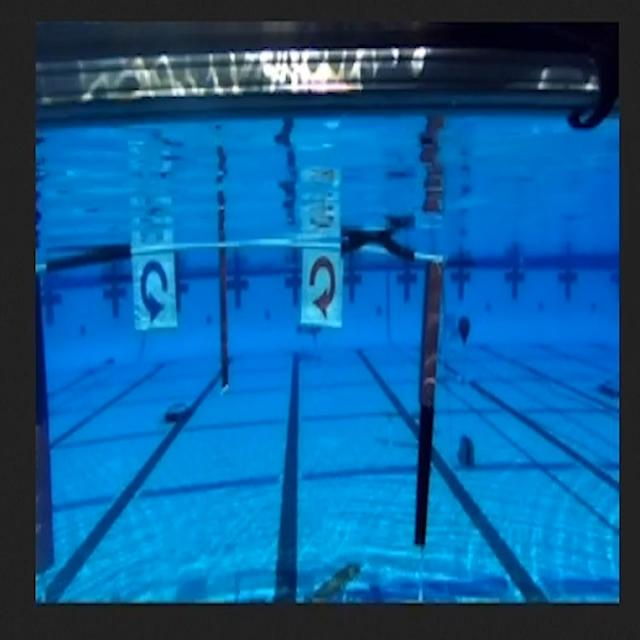Gate: (35, 233, 451, 580)
